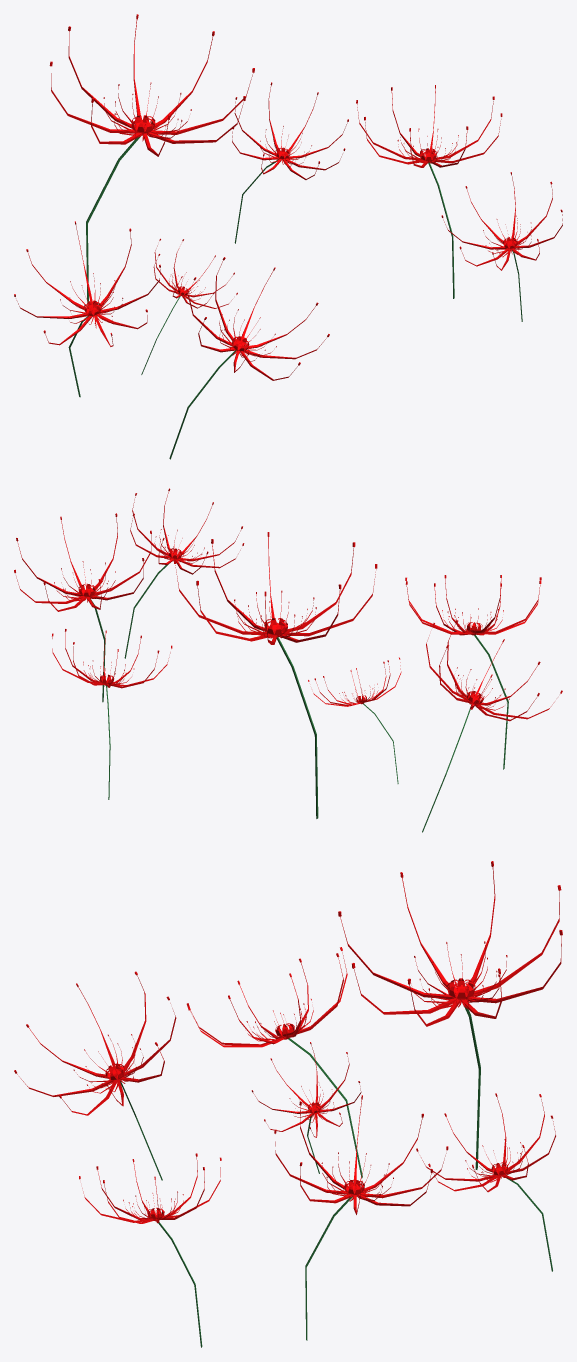
Rendered from higanbana.fbx.
The picture shows the model from 3 angles, top to bottom: view 1: azimuth 30°, elevation 25°; view 2: azimuth 150°, elevation 25°; view 3: azimuth 270°, elevation 25°; orthographic projection. The views are drawn at different scales.
Parts seen in each view (by area): view 1: petale, petale.003, petale.002, petale.005, petale.001, petale.004, tige, petale.006; view 2: petale, petale.005, petale.003, petale.002, petale.004, petale.001, tige, petale.006, petaleM.003; view 3: petale, petale.005, petale.002, petale.003, petale.001, petale.004, petale.006, tige, tige.003, petaleM.001.
Boxes of the visible parts, left/top/right/bottom form: petale: left=49, top=14, right=254, bottom=156; petale.003: left=14, top=221, right=160, bottom=346; petale.002: left=188, top=257, right=329, bottom=380; petale.005: left=356, top=85, right=502, bottom=167; petale.001: left=232, top=82, right=348, bottom=179; petale.004: left=441, top=172, right=562, bottom=270; tige: left=86, top=115, right=155, bottom=302; petale.006: left=153, top=238, right=237, bottom=308; petale: left=174, top=532, right=377, bottom=644; petale.005: left=14, top=513, right=151, bottom=611; petale.003: left=426, top=620, right=562, bottom=721; petale.002: left=405, top=575, right=541, bottom=635; petale.004: left=130, top=488, right=244, bottom=574; petale.001: left=52, top=629, right=172, bottom=688; tige: left=264, top=618, right=318, bottom=818; petale.006: left=308, top=657, right=401, bottom=706; petaleM.003: left=465, top=622, right=508, bottom=769; petale: left=338, top=861, right=562, bottom=1026; petale.005: left=274, top=1095, right=448, bottom=1214; petale.002: left=14, top=971, right=176, bottom=1115; petale.003: left=186, top=947, right=347, bottom=1047; petale.001: left=416, top=1093, right=555, bottom=1192; petale.004: left=79, top=1153, right=221, bottom=1223; petale.006: left=251, top=1042, right=361, bottom=1137; tige: left=447, top=978, right=480, bottom=1169; tige.003: left=305, top=1180, right=364, bottom=1340; petaleM.001: left=275, top=1023, right=362, bottom=1178.
Size of the model in its own units: 180 by 98.04 by 145.
Materials: 3 (3 with a texture image).
